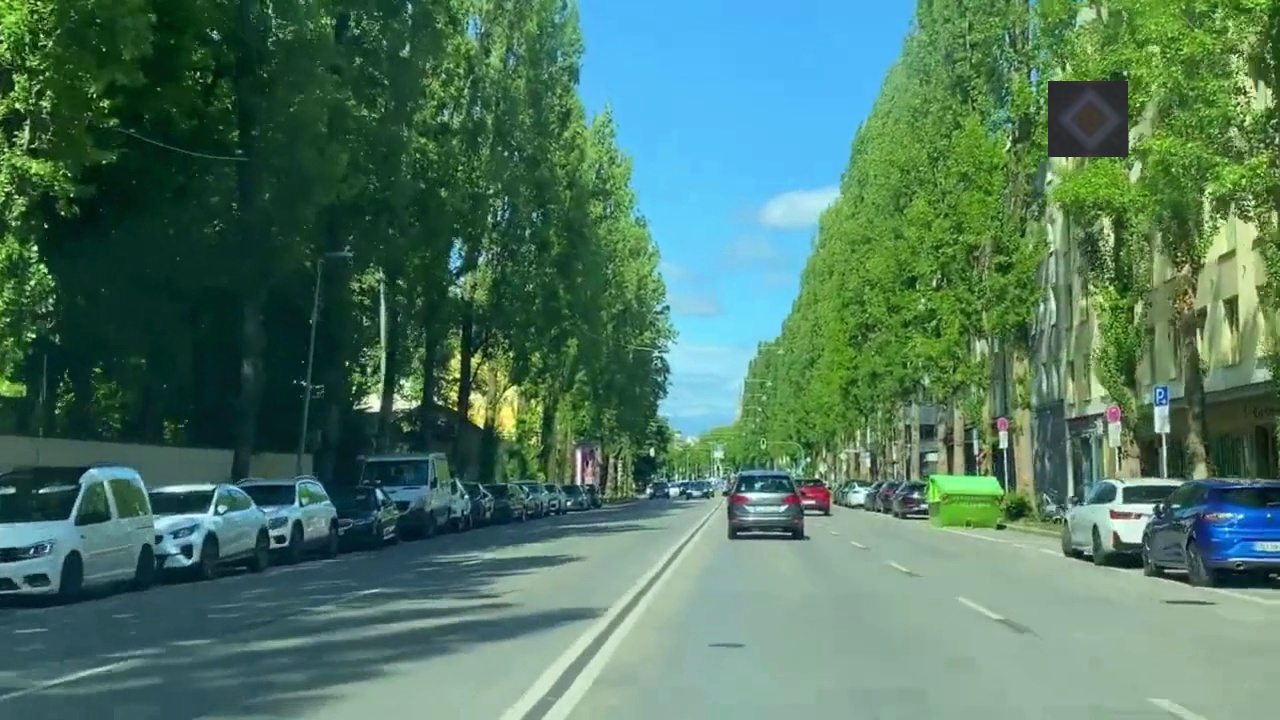Priority road: (1048, 81, 1128, 157)
